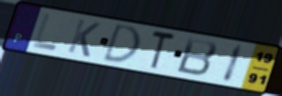B: (174, 36, 220, 78)
D: (100, 22, 142, 65)
I: (220, 43, 246, 85)
K: (65, 17, 103, 59)
L: (30, 12, 59, 53)
T: (147, 29, 178, 72)
